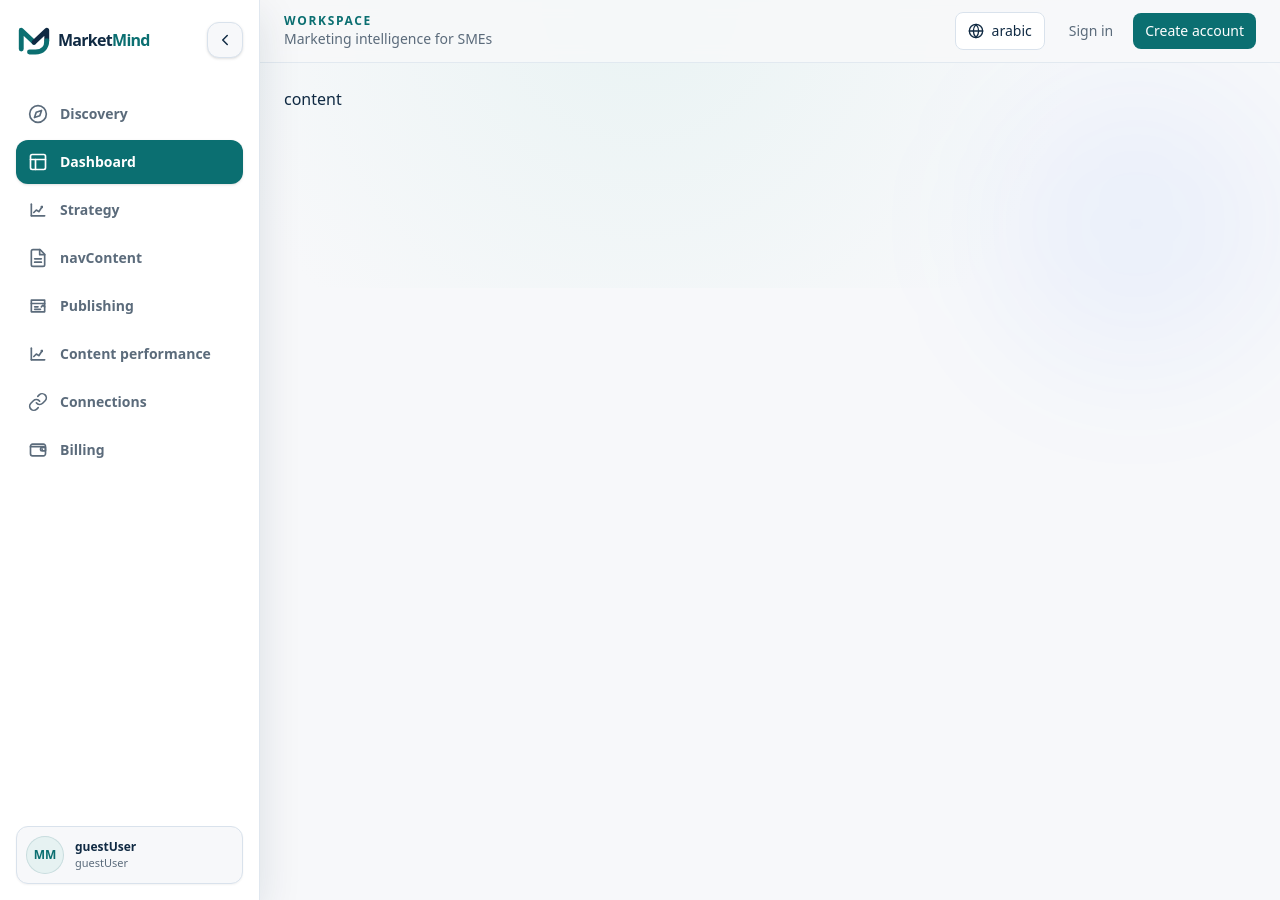
AppShell › can collapse the desktop sidebar
The image size is (1280, 900).
Click the button named "Collapse sidebar" at (225, 40), box [207, 22, 243, 58]
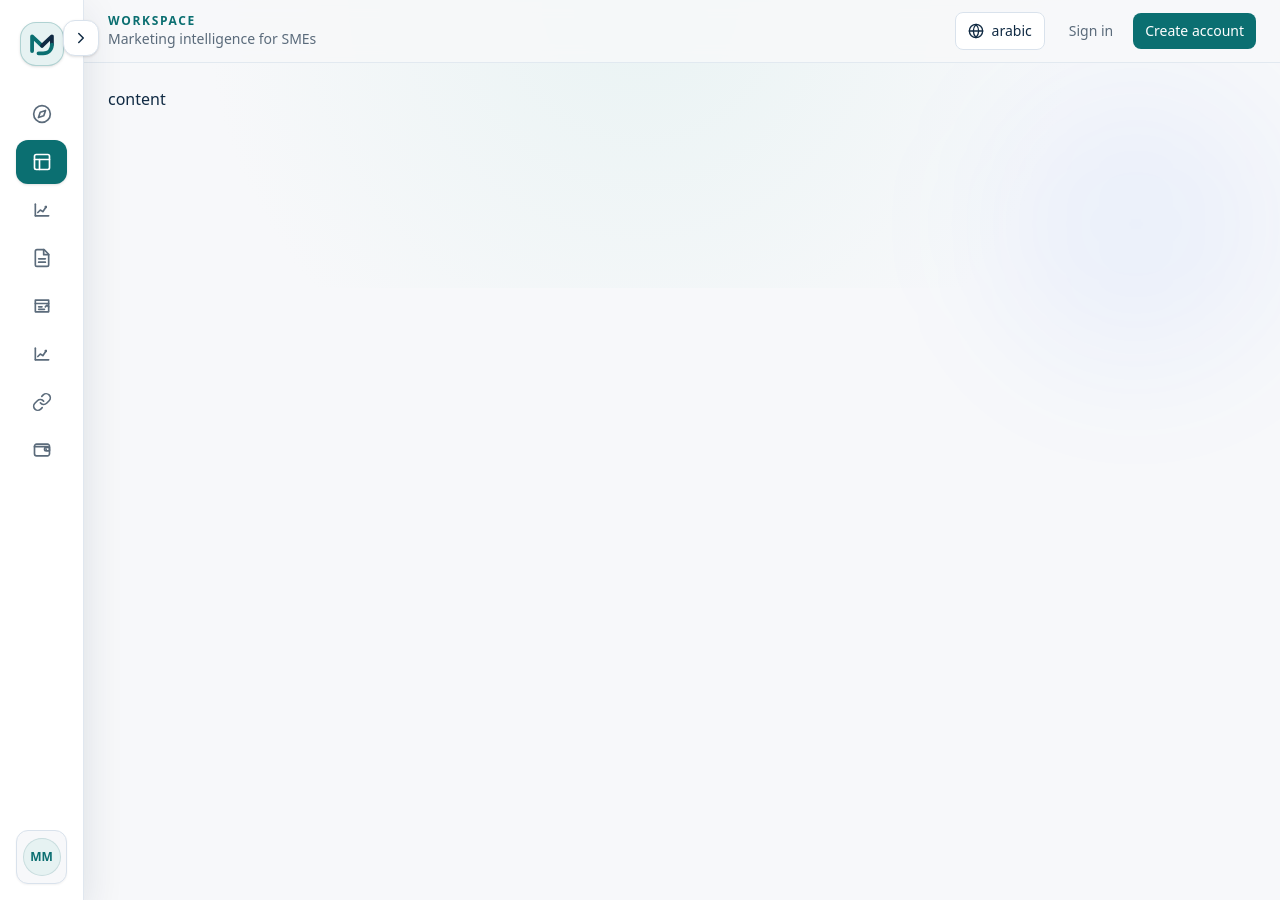
Now the button named "Expand sidebar" is shown, box [63, 20, 99, 56]
